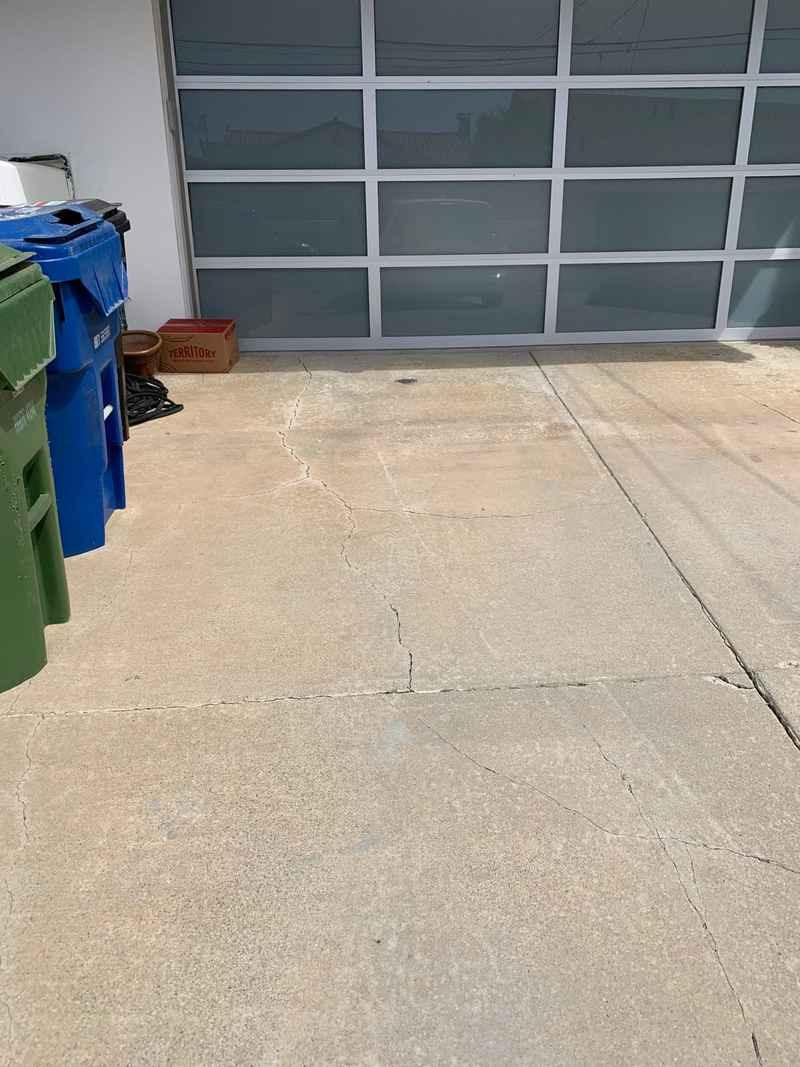package: (156, 318, 247, 376)
